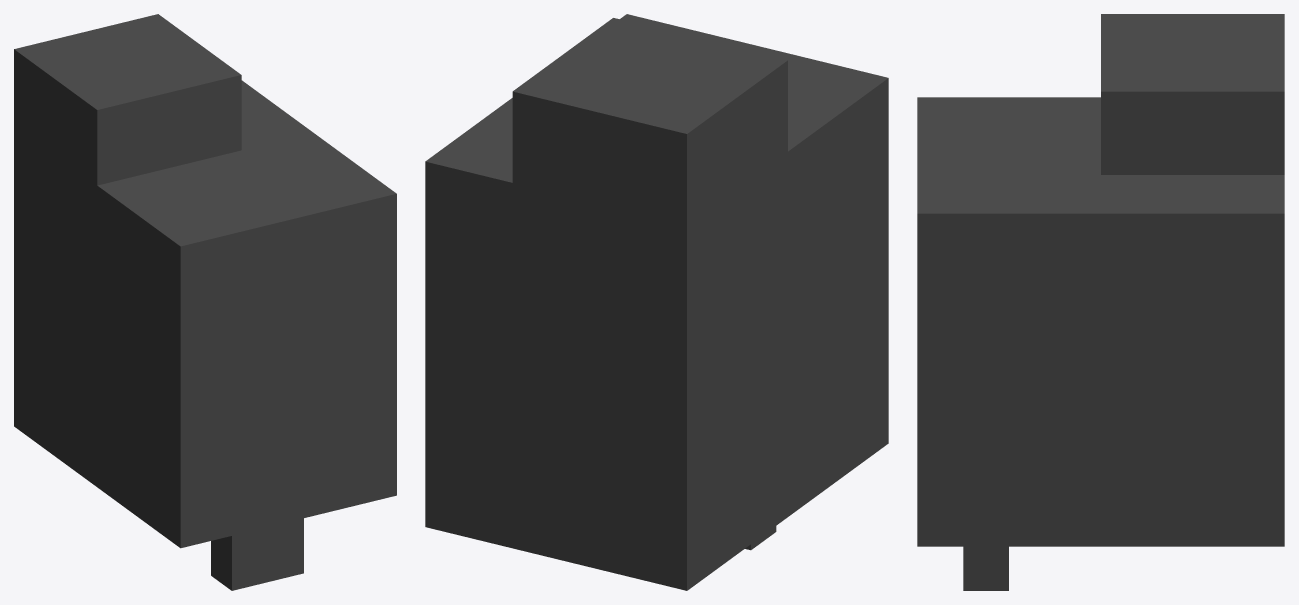
Rendered from PlayerDark-8-Player_LLeg.obj.
The picture shows the model from 3 angles, left to right: view 1: azimuth 30°, elevation 25°; view 2: azimuth 150°, elevation 25°; view 3: azimuth 270°, elevation 25°; orthographic projection. The views are drawn at different scales.
Parts seen in each view (by area): view 1: Player_LLeg; view 2: Player_LLeg; view 3: Player_LLeg.
Part boxes in pixels (box(x1,y1,x2,y2)): Player_LLeg: box(14, 14, 396, 590); Player_LLeg: box(425, 14, 888, 590); Player_LLeg: box(917, 14, 1284, 590).
Size of the model in its own units: 0.6 by 1.2 by 0.8.
1 material, 1 textured.
